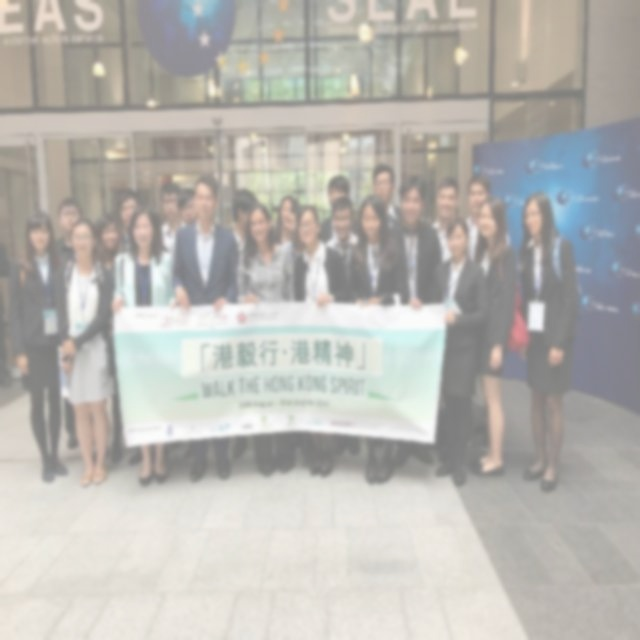pessoa: (515, 189, 589, 494), (170, 172, 240, 482), (110, 204, 178, 488), (347, 192, 412, 486), (6, 210, 70, 487), (429, 215, 492, 488), (291, 204, 352, 478), (237, 202, 296, 479), (57, 216, 116, 489), (468, 193, 520, 480), (50, 195, 97, 452), (226, 187, 260, 460), (91, 212, 125, 469), (389, 172, 445, 310), (461, 172, 512, 266), (316, 172, 364, 246), (322, 194, 359, 283), (0, 226, 17, 405), (360, 162, 402, 229), (430, 174, 460, 264), (160, 179, 188, 268), (114, 188, 144, 254), (283, 202, 306, 262), (274, 194, 300, 244), (147, 206, 170, 253), (176, 186, 198, 228)
